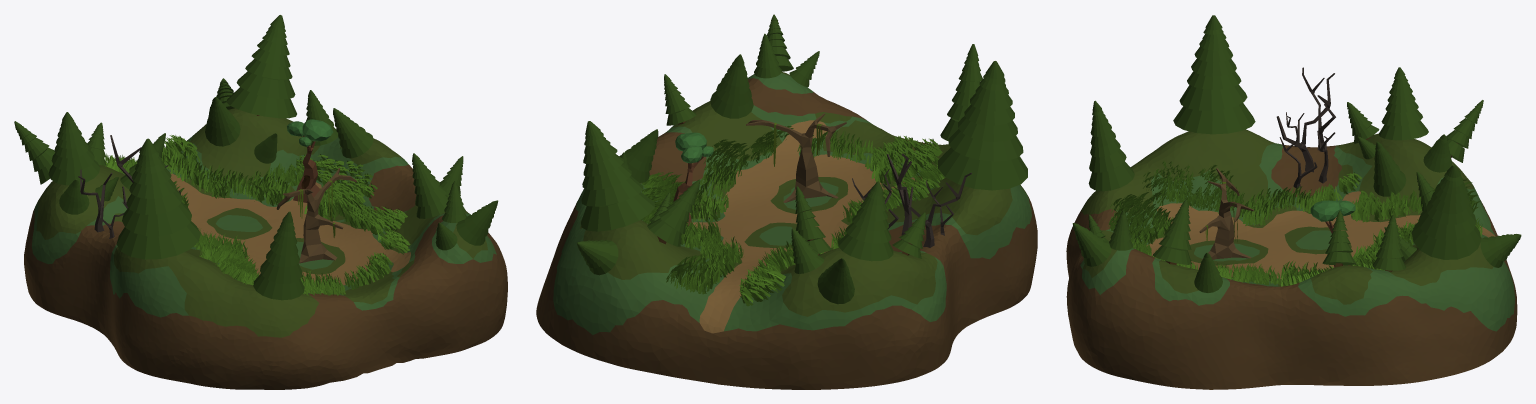
Rendered from Artefatos_Enviroment_v2.fbx.
The picture shows the model from 3 angles, left to right: view 1: azimuth 30°, elevation 25°; view 2: azimuth 150°, elevation 25°; view 3: azimuth 270°, elevation 25°; orthographic projection. The views are drawn at different scales.
Parts seen in each view (by area): view 1: Icosphere.003, Plane.503, Cube.013, Cube.001, Cube.014, Cube.010, Plane.025, Cube.019, Cube.003, Cube.012, Cube.009, Cube.017 (+10 smaller); view 2: Icosphere.003, Plane.503, Cube.013, Cube.001, Cube.010, Plane.025, Cube.019, Cube.003, Cube.014, Cube.009, Cube.004, Cube.007 (+10 smaller); view 3: Icosphere.003, Plane.503, Cube.013, Cube.001, Cube.014, Cube.010, Plane.025, Cube.019, Cube.007, Cube.002, Cube.012, Cube.017 (+9 smaller).
Boxes of the visible parts, box(x1,y1,x2,y2) form: Icosphere.003: box(24, 108, 507, 389); Plane.503: box(104, 135, 410, 295); Cube.013: box(116, 138, 200, 259); Cube.001: box(226, 15, 296, 118); Cube.014: box(253, 211, 304, 300); Cube.010: box(48, 112, 100, 185); Plane.025: box(276, 168, 356, 263); Cube.019: box(412, 153, 448, 218); Cube.003: box(205, 97, 240, 146); Cube.012: box(333, 108, 373, 158); Cube.009: box(14, 121, 54, 184); Cube.017: box(456, 200, 498, 245); Icosphere.003: box(536, 72, 1037, 389); Plane.503: box(641, 126, 945, 306); Cube.013: box(938, 61, 1027, 190); Cube.001: box(581, 121, 654, 231); Cube.010: box(838, 181, 893, 261); Plane.025: box(746, 113, 846, 202); Cube.019: box(710, 54, 753, 118); Cube.003: box(647, 179, 700, 246); Cube.014: box(940, 44, 982, 141); Cube.009: box(817, 258, 854, 304); Cube.004: box(576, 240, 618, 275); Cube.007: box(795, 186, 831, 255); Icosphere.003: box(1066, 129, 1517, 389); Plane.503: box(1108, 160, 1482, 286); Cube.013: box(1173, 15, 1255, 134); Cube.001: box(1411, 164, 1481, 259); Cube.014: box(1088, 100, 1134, 191); Cube.010: box(1378, 67, 1428, 140); Plane.025: box(1199, 168, 1253, 259); Cube.019: box(1152, 199, 1191, 264); Cube.007: box(1373, 141, 1406, 196); Cube.002: box(1372, 215, 1405, 271); Cube.012: box(1322, 211, 1355, 267); Cube.017: box(1072, 223, 1111, 266).
Bounding box in the file's own units: 30012 × 17405 × 33105.
